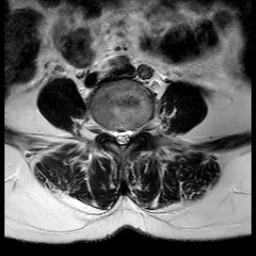CCS_severe_stenosis: (118, 119, 125, 155)
LFS_stenosis: (134, 116, 142, 141)
LLS_normal: (125, 119, 134, 148)
RFS_stenosis: (102, 116, 110, 145)
RLS_stenosis: (110, 119, 118, 149)
